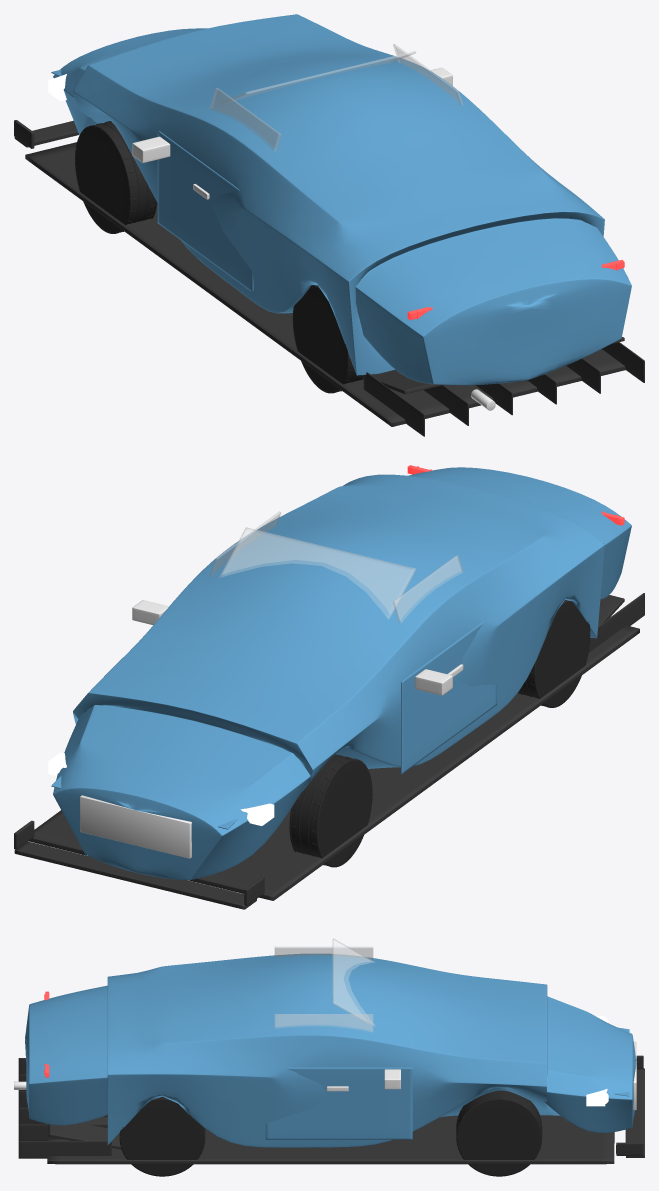
The model's file is vehicle.opt.glb.
The picture shows the model from 3 angles, top to bottom: view 1: azimuth 30°, elevation 25°; view 2: azimuth 150°, elevation 25°; view 3: azimuth 270°, elevation 25°; orthographic projection. The views are drawn at different scales.
Visible parts, largest first — view 1: BODY_MainShell, UNDERBODY_FlatFloor, BODY_Door_FL, WHEEL_FL_Tire, WHEEL_RL_Tire, GLASS_Greenhouse, JEWELRY_Hardware, AERO_FrontSplitter; view 2: BODY_MainShell, UNDERBODY_FlatFloor, GLASS_Greenhouse, WHEEL_FL_Tire, BODY_Door_FL, WHEEL_RL_Tire, JEWELRY_1800ES_Grille, AERO_FrontSplitter, JEWELRY_Hardware, LIGHTING_Headlamps; view 3: BODY_MainShell, UNDERBODY_FlatFloor, BODY_Door_FR, WHEEL_FR_Tire, WHEEL_RR_Tire, GLASS_Greenhouse, AERO_FrontSplitter, JEWELRY_Hardware, LIGHTING_Headlamps.
Part boxes in pixels (left/top/right/bottom): BODY_MainShell: left=53, top=14, right=631, bottom=385; UNDERBODY_FlatFloor: left=25, top=142, right=644, bottom=436; BODY_Door_FL: left=157, top=130, right=253, bottom=292; WHEEL_FL_Tire: left=75, top=121, right=157, bottom=233; WHEEL_RL_Tire: left=292, top=285, right=363, bottom=393; GLASS_Greenhouse: left=209, top=44, right=462, bottom=151; JEWELRY_Hardware: left=132, top=67, right=452, bottom=199; AERO_FrontSplitter: left=14, top=120, right=78, bottom=148; BODY_MainShell: left=53, top=467, right=631, bottom=880; UNDERBODY_FlatFloor: left=29, top=593, right=644, bottom=900; GLASS_Greenhouse: left=209, top=511, right=463, bottom=623; WHEEL_FL_Tire: left=289, top=754, right=372, bottom=867; BODY_Door_FL: left=401, top=621, right=496, bottom=774; WHEEL_RL_Tire: left=518, top=600, right=590, bottom=707; JEWELRY_1800ES_Grille: left=80, top=795, right=191, bottom=858; AERO_FrontSplitter: left=14, top=820, right=264, bottom=909; JEWELRY_Hardware: left=132, top=600, right=463, bottom=695; LIGHTING_Headlamps: left=48, top=752, right=274, bottom=825; BODY_MainShell: left=25, top=953, right=636, bottom=1147; UNDERBODY_FlatFloor: left=18, top=1058, right=614, bottom=1164; BODY_Door_FR: left=265, top=1067, right=412, bottom=1139; WHEEL_FR_Tire: left=456, top=1090, right=542, bottom=1176; WHEEL_RR_Tire: left=119, top=1096, right=205, bottom=1176; GLASS_Greenhouse: left=274, top=938, right=374, bottom=1031; AERO_FrontSplitter: left=616, top=1055, right=644, bottom=1157; JEWELRY_Hardware: left=326, top=962, right=400, bottom=1091; LIGHTING_Headlamps: left=586, top=1016, right=608, bottom=1106.
Size of what is drawn, in the model's own units: 2.02 by 1.29 by 4.59.
